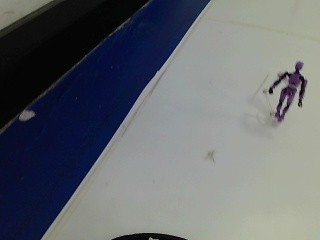pedestrian: (260, 53, 308, 129)
